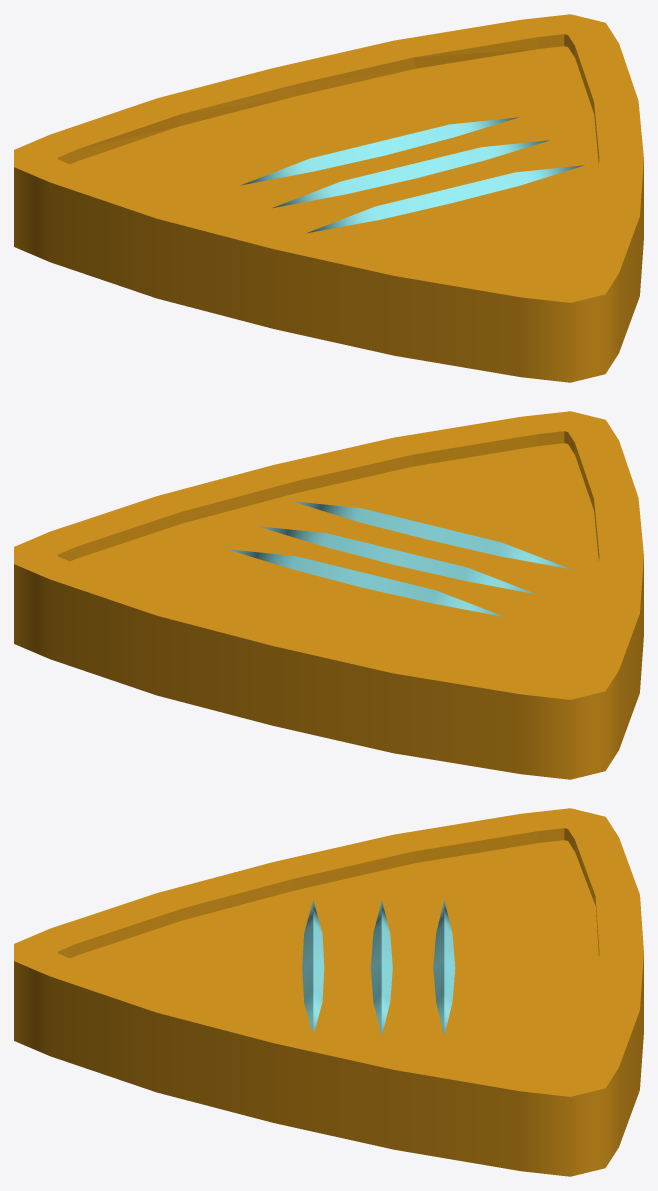
The model's file is Powerup_Speed.FBX.
3 views of the same model, one above another, from view 1: azimuth 30°, elevation 25°; view 2: azimuth 150°, elevation 25°; view 3: azimuth 270°, elevation 25° (orthographic).
Visible parts, largest first — view 1: NGon001; view 2: NGon001; view 3: NGon001.
Part boxes in pixels (x1,y1,x2,y2): NGon001: (14,14,643,382); NGon001: (14,411,643,779); NGon001: (14,808,643,1176).
Bounding box in the file's own units: 155 × 20 × 143.
